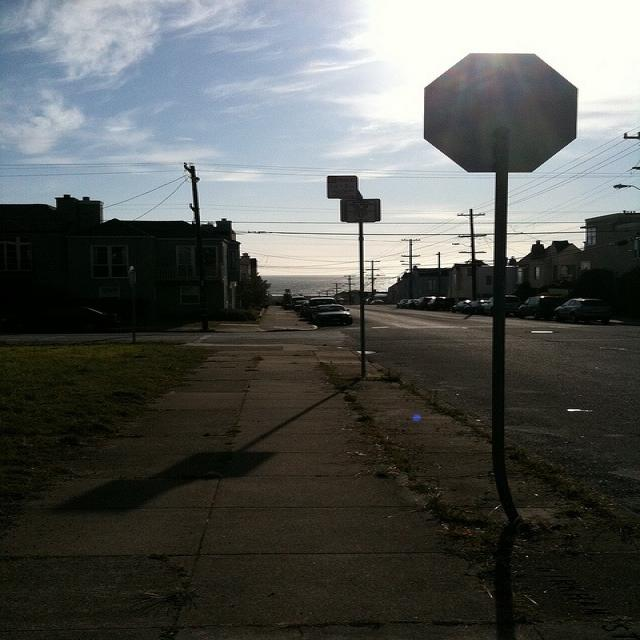car: (552, 298, 611, 322), (512, 294, 561, 319), (309, 303, 351, 324), (487, 293, 520, 316), (307, 295, 337, 314), (448, 299, 481, 314), (409, 295, 435, 308), (429, 295, 451, 309), (479, 298, 492, 313), (290, 298, 306, 310), (394, 296, 409, 306), (297, 300, 307, 314), (368, 299, 383, 303)
pole: (480, 122, 533, 522), (188, 164, 209, 331), (353, 221, 368, 378), (128, 267, 136, 343)
